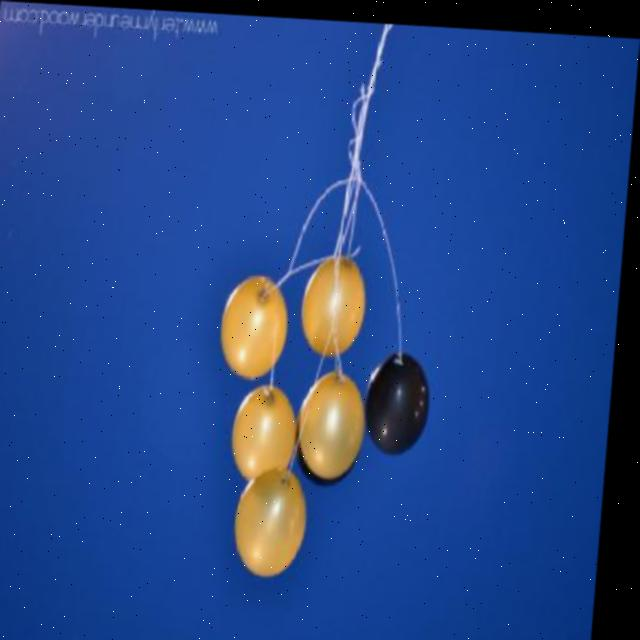balloon: (237, 454, 325, 586), (216, 251, 300, 386), (364, 324, 445, 459), (298, 356, 378, 481), (300, 242, 378, 356), (232, 382, 306, 483)
